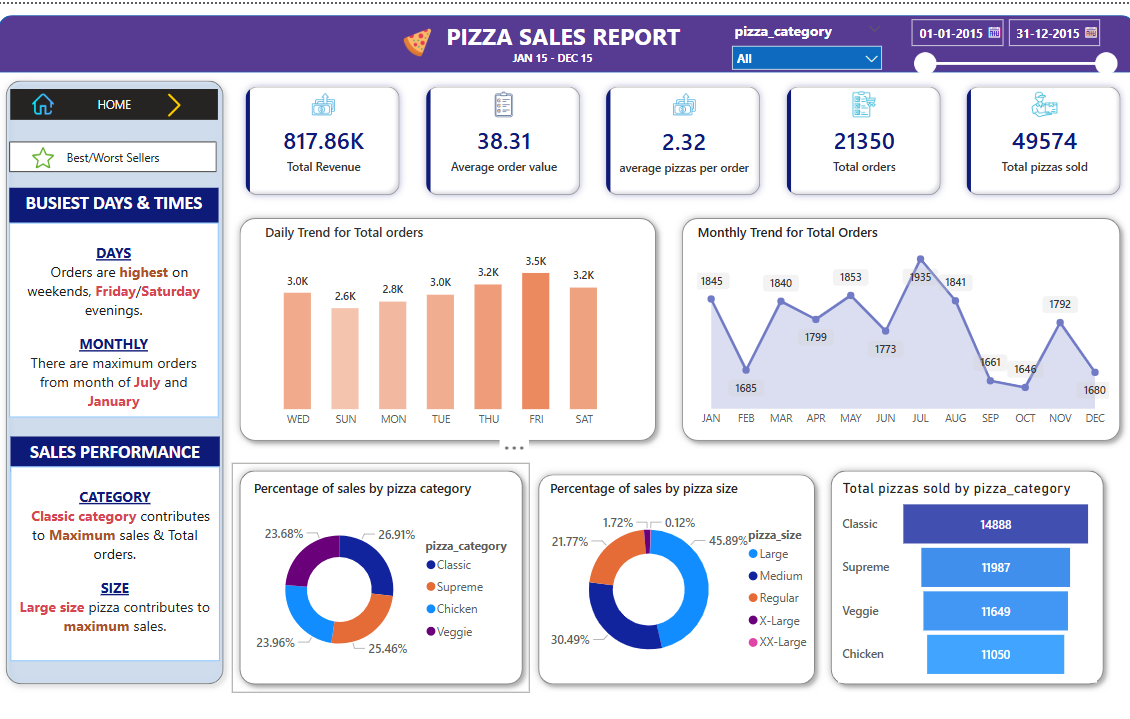

The page's visual inventory and layout, read from the dashboard file:
{"tool":"powerbi","page":{"name":"HOME","canvas":[1300,820],"ordinal":0},"visuals":[{"type":"cardVisual","fields":{"Data":["pizza_sales.Total Revenue","pizza_sales.Average order value","pizza_sales.average pizzas per order","pizza_sales.Total orders","pizza_sales.Total pizzas sold"]},"box":[266.7,79.1,1033,156.8],"z":0},{"type":"shape","box":[0,13.3,1300,65.6],"z":1000},{"type":"textbox","box":[506.7,13.3,287.8,48.9],"z":2000},{"type":"textbox","box":[0,343.3,347.8,150],"z":3000},{"type":"textbox","box":[582.2,46.7,134.4,37.8],"z":4000},{"type":"image","box":[423.3,23.3,112.2,42.2],"z":5000},{"type":"shape","box":[266.7,235.9,493.8,272.5],"z":6000},{"type":"columnChart","title":"Daily Trend for Total orders","fields":{"Category":["pizza_sales.Order Day"],"Y":["pizza_sales.Total orders"]},"box":[300.4,250.6,413.2,243.2],"z":7000},{"type":"shape","box":[772.2,235.9,518.7,272.5],"z":8000},{"type":"areaChart","title":"Monthly Trend for Total Orders","fields":{"Category":["pizza_sales.Order Month"],"Y":["pizza_sales.Total orders"]},"box":[794.2,250.6,480.6,241.8],"z":9000},{"type":"shape","box":[266.7,524.6,341.4,262.3],"z":10000},{"type":"shape","box":[0,79.1,266.7,707.7],"z":11000},{"type":"shape","box":[608.1,529,334.1,257.9],"z":12000},{"type":"shape","box":[942.2,524.6,329.7,262.3],"z":13000},{"type":"donutChart","title":"Percentage of sales by pizza category","fields":{"Category":["pizza_sales.pizza_category"],"Y":["pizza_sales.Total Revenue"]},"box":[287.2,542.2,306.2,233],"z":14000},{"type":"donutChart","title":"Percentage of sales by pizza size","fields":{"Y":["pizza_sales.Total Revenue"],"Category":["pizza_sales.pizza_size"]},"box":[625.7,542.2,316.5,233],"z":15000},{"type":"funnel","fields":{"Y":["pizza_sales.Total pizzas sold"],"Category":["pizza_sales.pizza_category"]},"box":[959.8,542.2,296,233],"z":16000},{"type":"textbox","box":[13.2,209.5,238.8,41],"z":17000},{"type":"textbox","box":[13.2,250.6,238.8,222.7],"z":18000},{"type":"textbox","box":[14.7,493.8,238.8,41],"z":19000},{"type":"textbox","box":[14.7,529,238.8,222.7],"z":20000},{"type":"slicer","fields":{"Values":["pizza_sales.pizza_category"]},"box":[827.9,14.7,192,61.5],"z":21000},{"type":"slicer","fields":{"Values":["pizza_sales.order_date"]},"box":[1031.6,7.3,256.4,107],"z":22000},{"type":"pageNavigator","box":[14.3,97.1,237.1,35.7],"z":22001},{"type":"pageNavigator","box":[12.9,157.1,237.1,35.7],"z":22002},{"type":"image","box":[174.3,97.1,54.3,37.1],"z":22003},{"type":"image","box":[34.3,97.1,34.3,34.3],"z":22004},{"type":"image","box":[34.3,158.6,34.3,34.3],"z":22005}]}

Visuals, with their boxes in screenshot pixels (x1, y1, x2, y2), scaled from the page's 1300x820 canvas onto the 1130x719 screenshot:
cardVisual - pizza_sales.Total Revenue x pizza_sales.Average order value: (x1=232, y1=69, x2=1129, y2=207)
shape: (x1=0, y1=12, x2=1129, y2=69)
textbox: (x1=440, y1=12, x2=691, y2=55)
textbox: (x1=0, y1=301, x2=302, y2=433)
textbox: (x1=506, y1=41, x2=623, y2=74)
image: (x1=368, y1=20, x2=465, y2=57)
shape: (x1=232, y1=207, x2=661, y2=446)
"Daily Trend for Total orders" columnChart: (x1=261, y1=220, x2=620, y2=433)
shape: (x1=671, y1=207, x2=1122, y2=446)
"Monthly Trend for Total Orders" areaChart: (x1=690, y1=220, x2=1108, y2=432)
shape: (x1=232, y1=460, x2=529, y2=690)
shape: (x1=0, y1=69, x2=232, y2=690)
shape: (x1=529, y1=464, x2=819, y2=690)
shape: (x1=819, y1=460, x2=1106, y2=690)
"Percentage of sales by pizza category" donutChart: (x1=250, y1=475, x2=516, y2=680)
"Percentage of sales by pizza size" donutChart: (x1=544, y1=475, x2=819, y2=680)
funnel - pizza_sales.Total pizzas sold x pizza_sales.pizza_category: (x1=834, y1=475, x2=1092, y2=680)
textbox: (x1=11, y1=184, x2=219, y2=220)
textbox: (x1=11, y1=220, x2=219, y2=415)
textbox: (x1=13, y1=433, x2=220, y2=469)
textbox: (x1=13, y1=464, x2=220, y2=659)
slicer - pizza_sales.pizza_category: (x1=720, y1=13, x2=887, y2=67)
slicer - pizza_sales.order_date: (x1=897, y1=6, x2=1120, y2=100)
pageNavigator: (x1=12, y1=85, x2=219, y2=116)
pageNavigator: (x1=11, y1=138, x2=217, y2=169)
image: (x1=152, y1=85, x2=199, y2=118)
image: (x1=30, y1=85, x2=60, y2=115)
image: (x1=30, y1=139, x2=60, y2=169)
